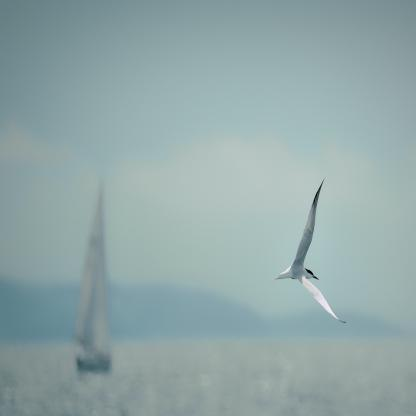bird: (271, 177, 347, 324)
